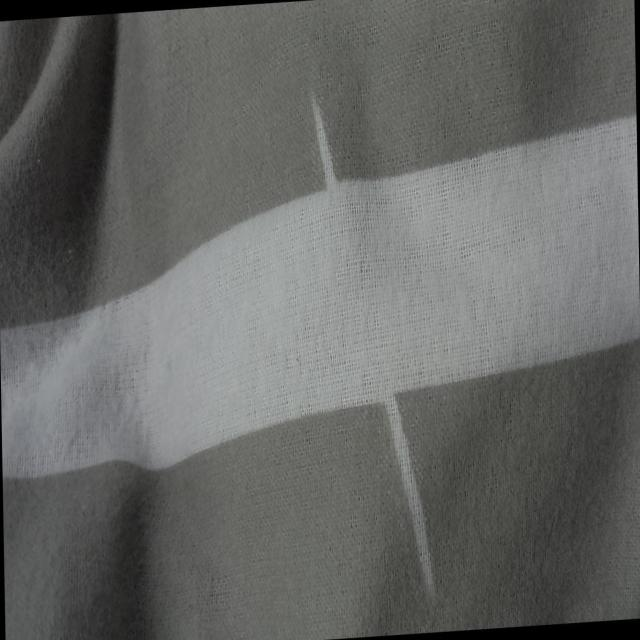selvet: (384, 392, 436, 598), (304, 92, 341, 199)
